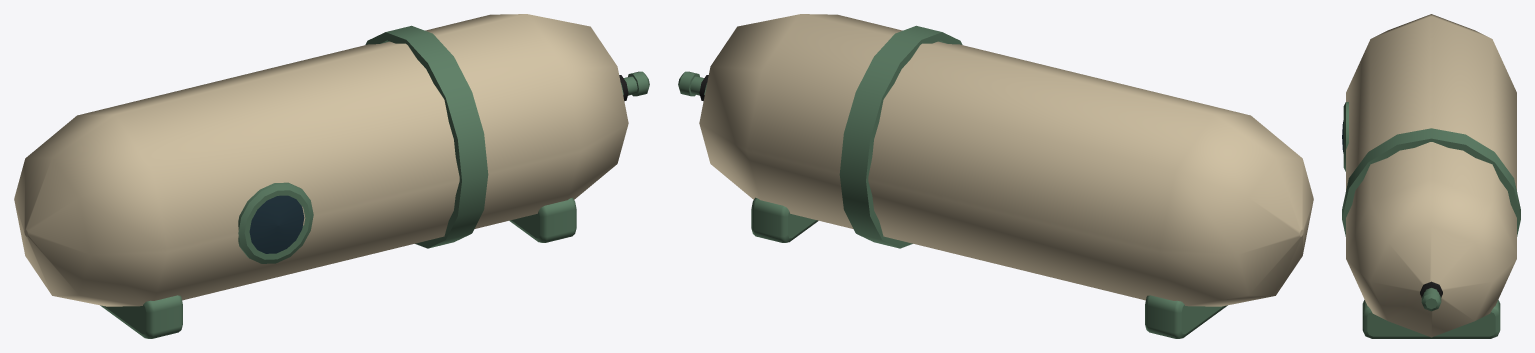
Rendered from t60_water.obj.
3 views of the same model, side by side, from view 1: azimuth 30°, elevation 25°; view 2: azimuth 150°, elevation 25°; view 3: azimuth 270°, elevation 25° (orthographic). The views are drawn at different scales.
Visible parts, largest first — view 1: t60_water; view 2: t60_water; view 3: t60_water.
Part boxes in pixels (x1,y1,x2,y2): t60_water: (14,14,649,338); t60_water: (678,14,1313,338); t60_water: (1342,14,1520,338).
Bounding box in the file's own units: 3.78 × 1.17 × 1.17.
